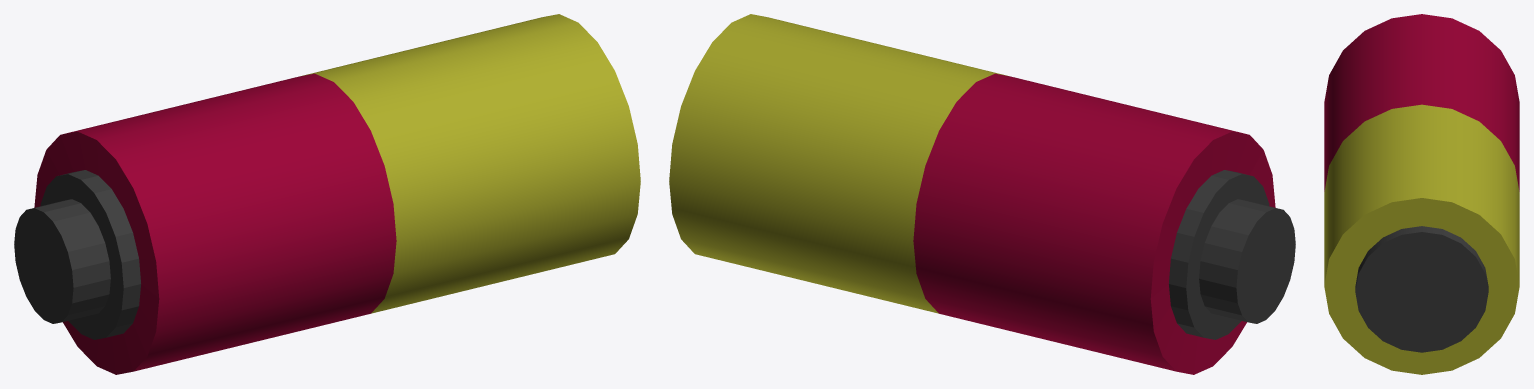
File: battery.fbx
The picture shows the model from 3 angles, left to right: view 1: azimuth 30°, elevation 25°; view 2: azimuth 150°, elevation 25°; view 3: azimuth 270°, elevation 25°; orthographic projection. The views are drawn at different scales.
Parts seen in each view (by area): view 1: pCylinder1; view 2: pCylinder1; view 3: pCylinder1.
Boxes of the visible parts, left/top/right/bottom form: pCylinder1: left=14, top=14, right=640, bottom=374; pCylinder1: left=669, top=14, right=1295, bottom=374; pCylinder1: left=1324, top=14, right=1519, bottom=374.
Size of the model in its own units: 0.5685 by 0.2235 by 0.2235.
